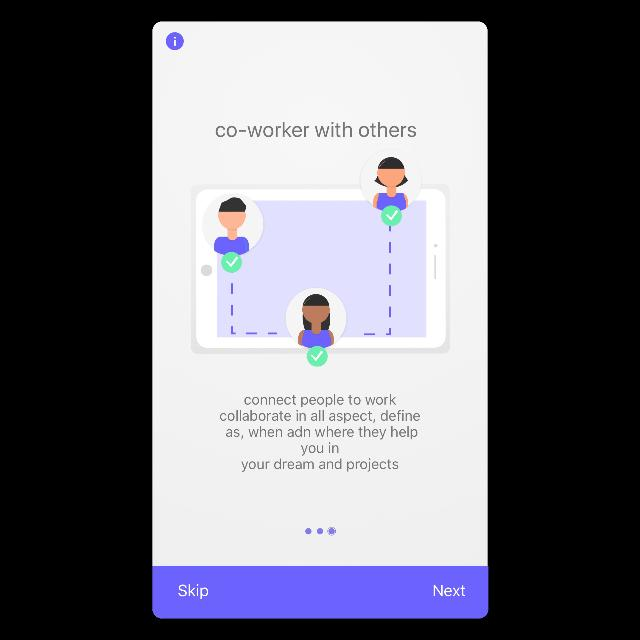icon: (166, 32, 184, 50)
image: (191, 150, 451, 366)
pageindicator: (305, 526, 337, 536)
text: (220, 394, 420, 472), (216, 122, 417, 138), (179, 584, 209, 600), (434, 585, 466, 597)
